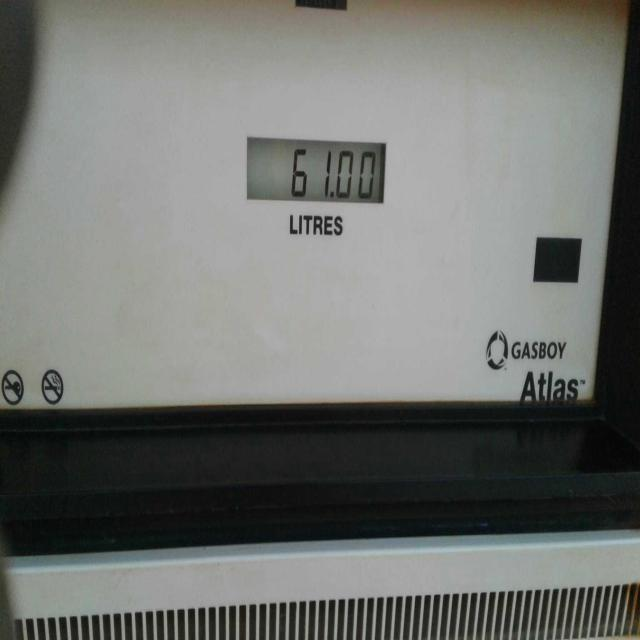.: (329, 191, 336, 201)
0: (338, 146, 357, 206), (359, 146, 379, 202)
1: (317, 145, 333, 205)
6: (279, 140, 312, 200)
